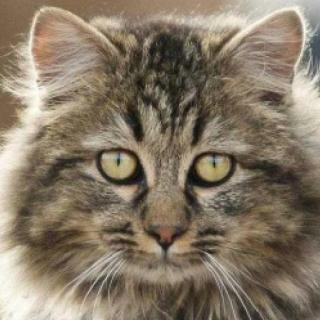cat: (23, 2, 304, 288)
nose: (141, 185, 190, 252)
